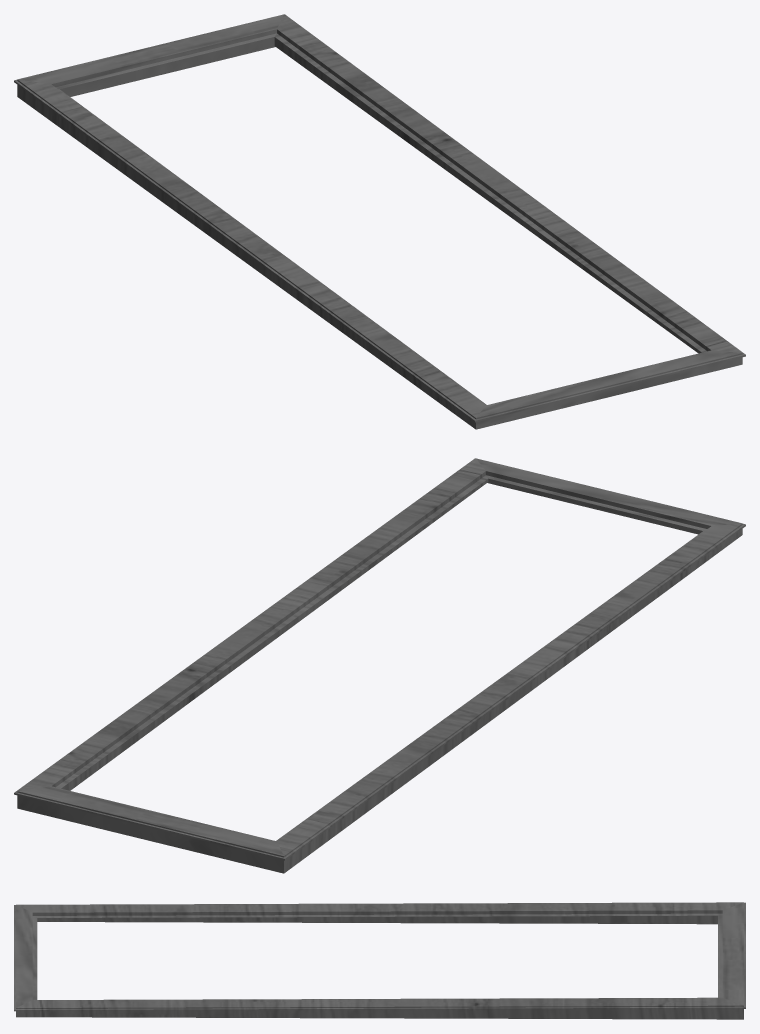
Rendered from RaamZijlicht-grijs.dae.
The picture shows the model from 3 angles, top to bottom: view 1: azimuth 30°, elevation 25°; view 2: azimuth 150°, elevation 25°; view 3: azimuth 270°, elevation 25°; orthographic projection. The views are drawn at different scales.
Parts seen in each view (by area): view 1: RaamZijlicht_geo; view 2: RaamZijlicht_geo; view 3: RaamZijlicht_geo.
Boxes of the visible parts, x1,y1,x2,y2 form: RaamZijlicht_geo: [14, 14, 745, 429]; RaamZijlicht_geo: [14, 458, 745, 873]; RaamZijlicht_geo: [14, 902, 745, 1019].
Bounding box in the file's own units: 52.9 × 3.26 × 156.
Materials: 1 (1 with a texture image).
